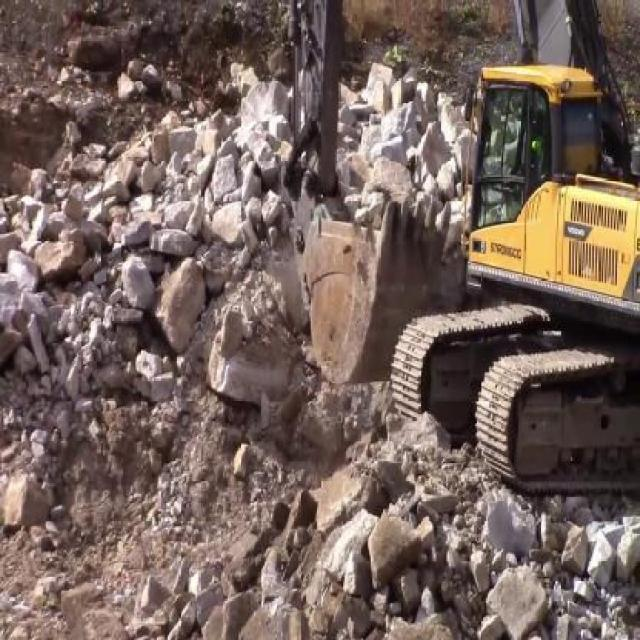Excavator: (275, 0, 639, 498)
